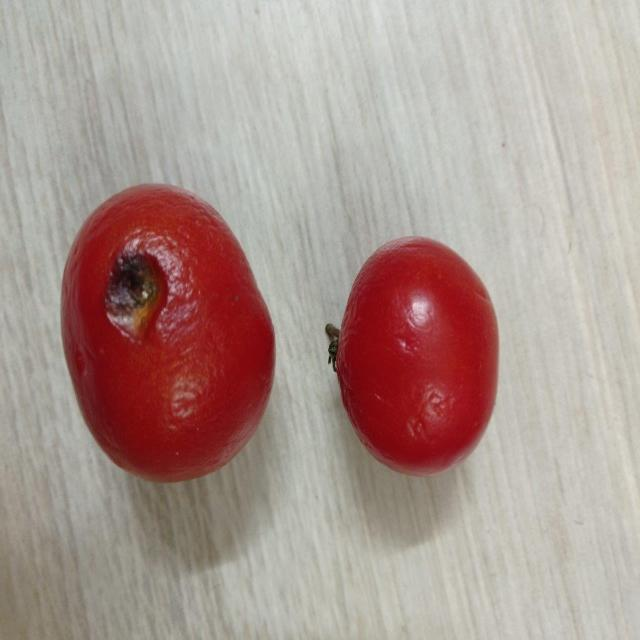Rotten: (60, 183, 275, 481)
overripe: (328, 233, 500, 477)
